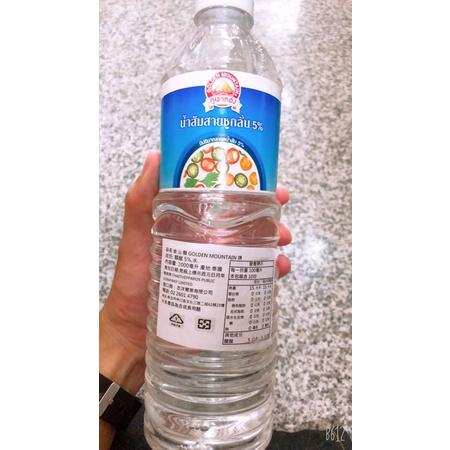plastic: (144, 0, 290, 449)
